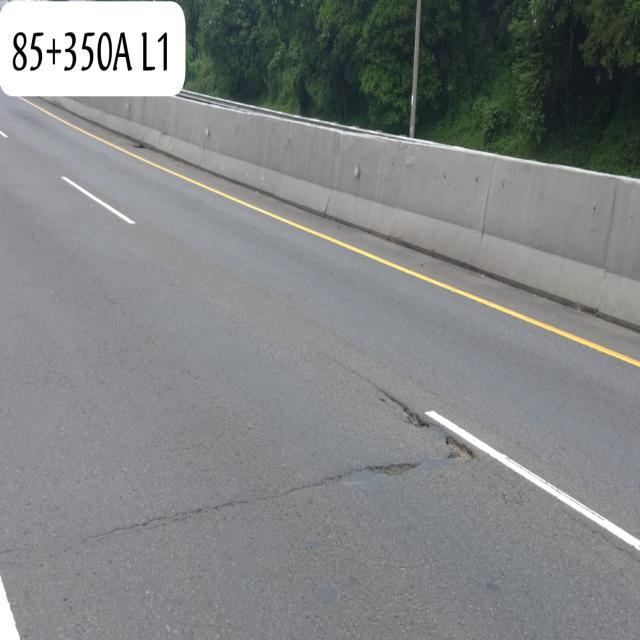Buraco: (371, 386, 434, 432), (442, 434, 478, 466), (361, 462, 420, 479)
